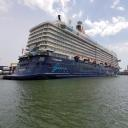cruises: (4, 16, 123, 83)
